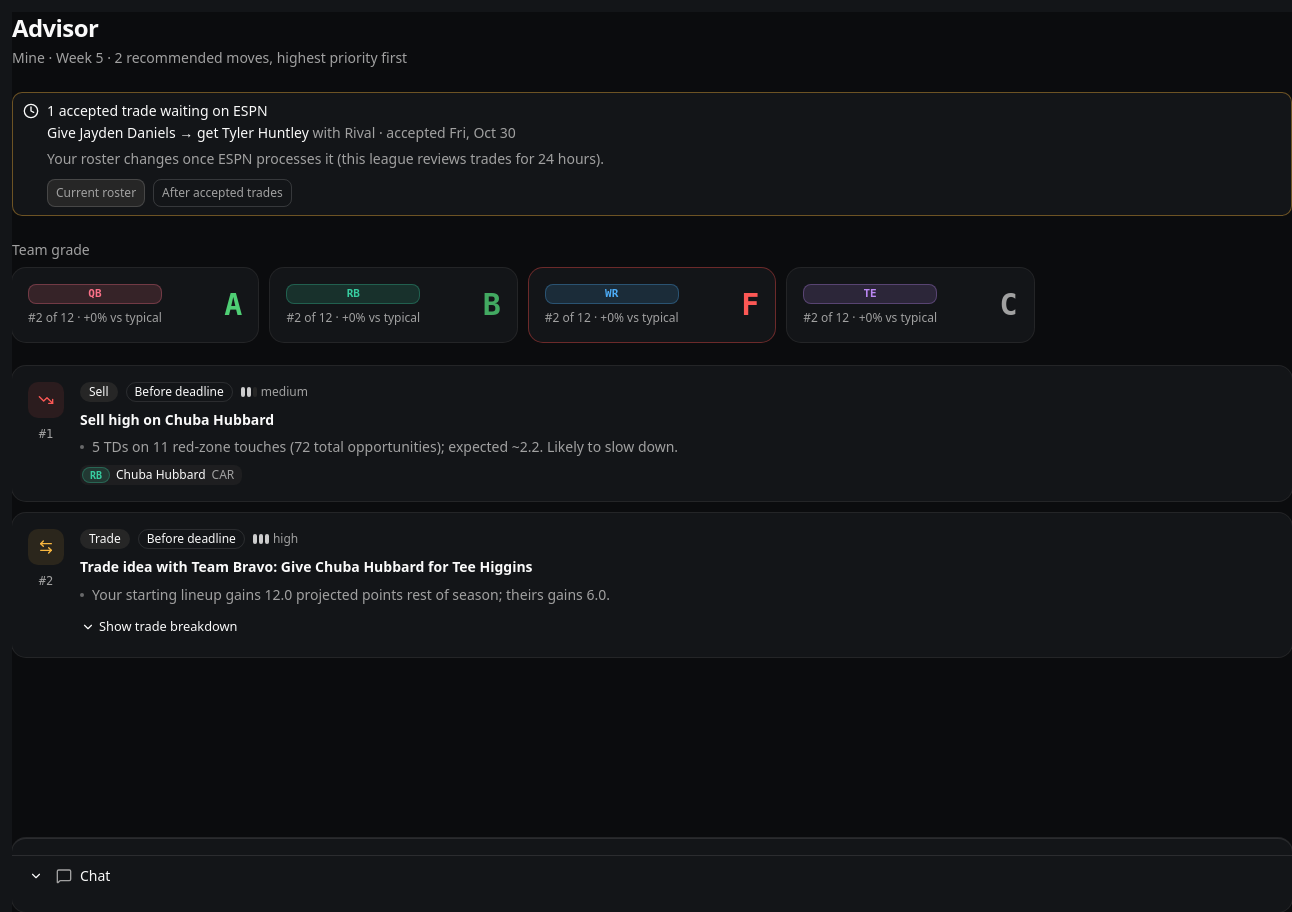
Scenario: AdvisorPage with accepted trades waiting on ESPN › switches the feed and grades to the roster after the trades, showing what changed
The width and height of the screenshot is (1292, 912).
Expected: the heading "Sell high on Chuba Hubbard" is shown, [80,410,274,429]
What coordinates should you click on to do the following:
click the radio button labelled "After accepted trades"
I would click on:
 (222, 193)
Its box is [153,179,292,207].
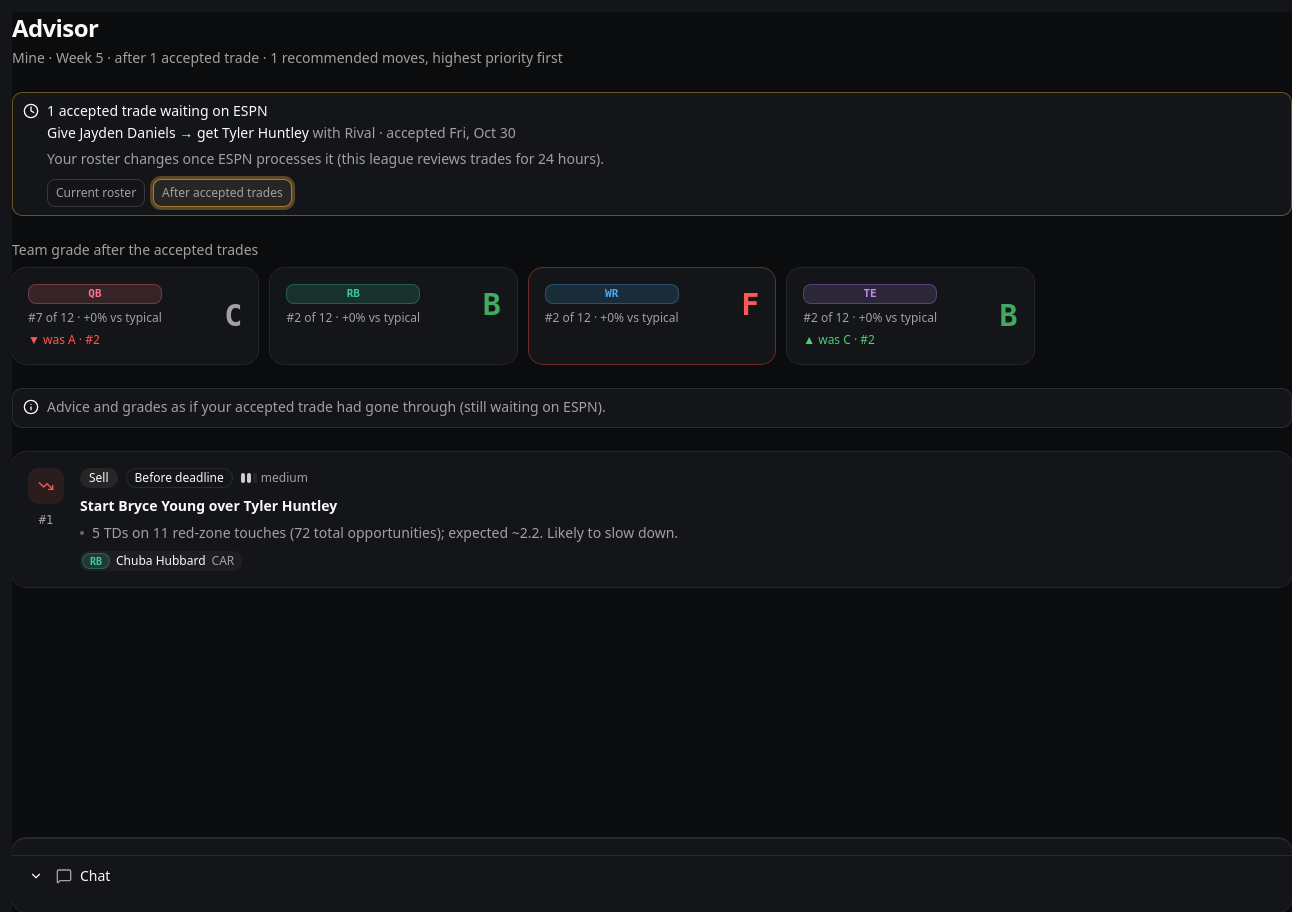
Expected: the heading "Start Bryce Young over Tyler Huntley" is shown, [80,496,337,515]
Expected: the heading "Team grade after the accepted trades" is shown, [12,240,258,259]
Expected: the text "as if your accepted trade had gone through" is shown, [47,397,606,416]
What coordinates should you click on to do the following:
click the radio button labelled "Current roster"
I would click on:
 (96, 193)
Its box is [47,179,145,207].
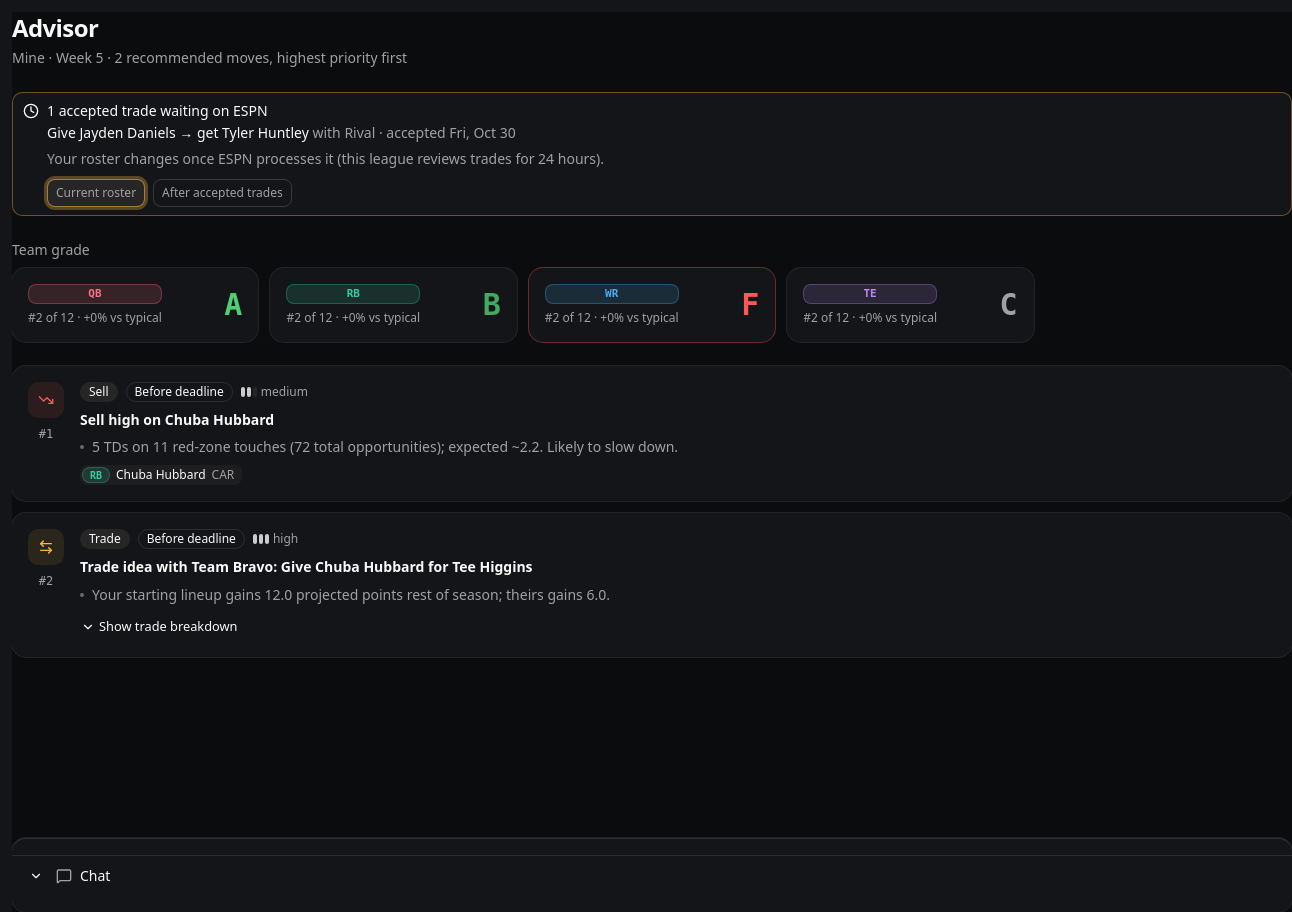
Expected: the heading "Sell high on Chuba Hubbard" is shown, [80,410,274,429]
